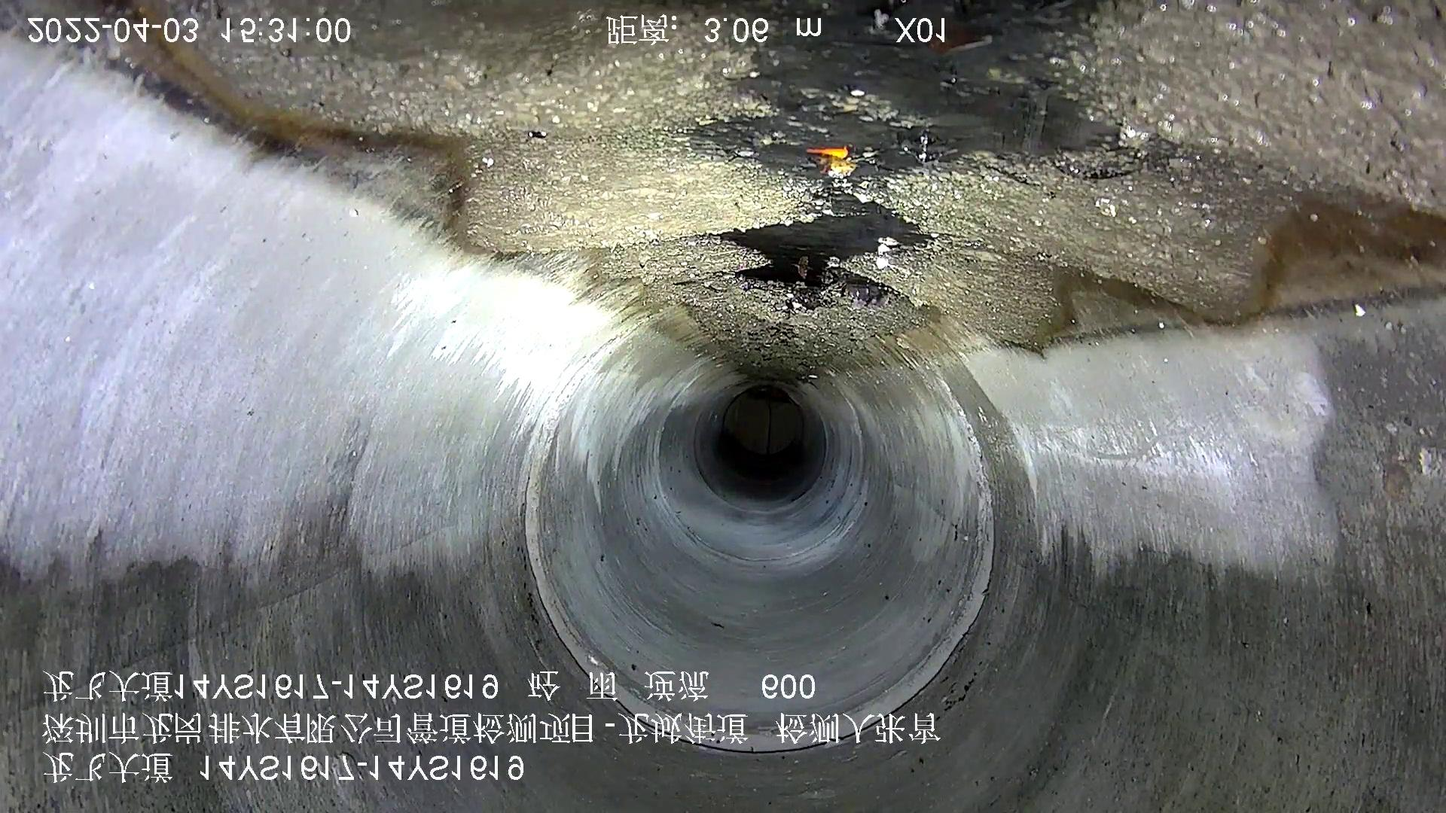CJ: (150, 1, 1445, 376)
CKTJ: (512, 298, 1005, 760)
